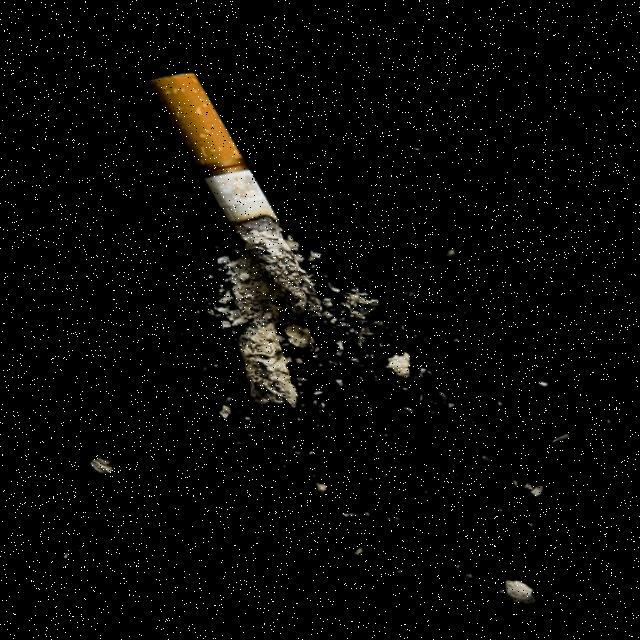cigarette: (115, 61, 362, 306)
